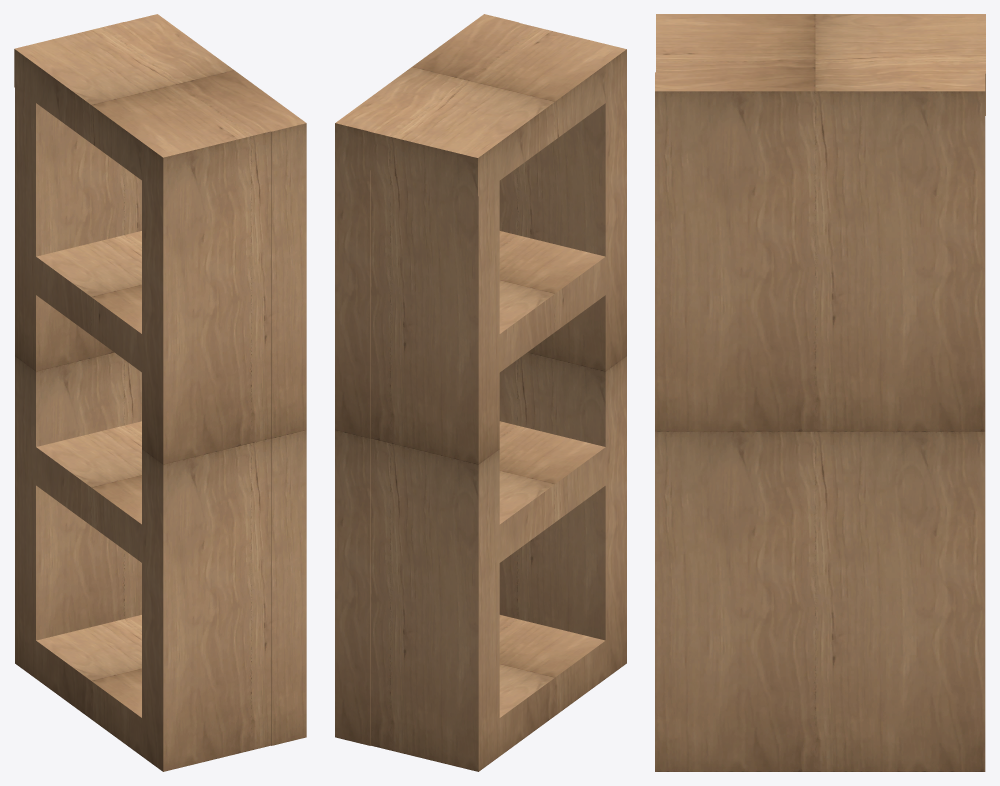
File: Bookcase.fbx
The picture shows the model from 3 angles, left to right: view 1: azimuth 30°, elevation 25°; view 2: azimuth 150°, elevation 25°; view 3: azimuth 270°, elevation 25°; orthographic projection. The views are drawn at different scales.
Visible parts, largest first — view 1: mergedBlocks; view 2: mergedBlocks; view 3: mergedBlocks.
Boxes of the visible parts, x1=… form: mergedBlocks: x1=14, y1=14, x2=306, y2=771; mergedBlocks: x1=335, y1=14, x2=626, y2=771; mergedBlocks: x1=655, y1=14, x2=985, y2=771.
Bounding box in the file's own units: 4.88 × 20 × 8.81.
Materials: 1 (1 with a texture image).
